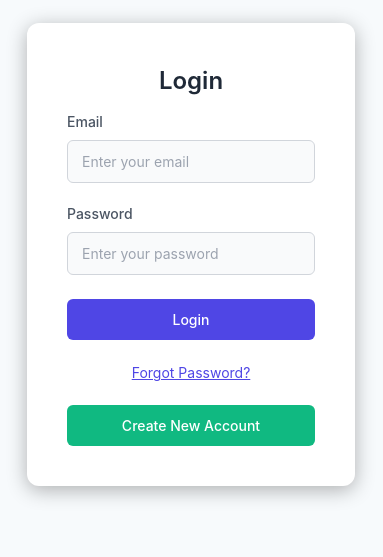
Test: AuthForm Component › renders signup form correctly after toggle
Step 1. Click the button "Create New Account" → coordinates (191, 426), box [67,405,315,446]
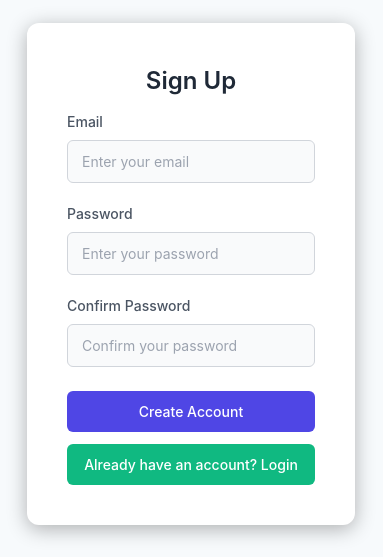
expect the heading "Sign Up" is shown: met, box [146,66,236,95]
expect the password field labelled "Confirm Password" is shown: met, box [67,324,315,367]
expect the button "Create Account" is shown: met, box [67,391,315,432]
